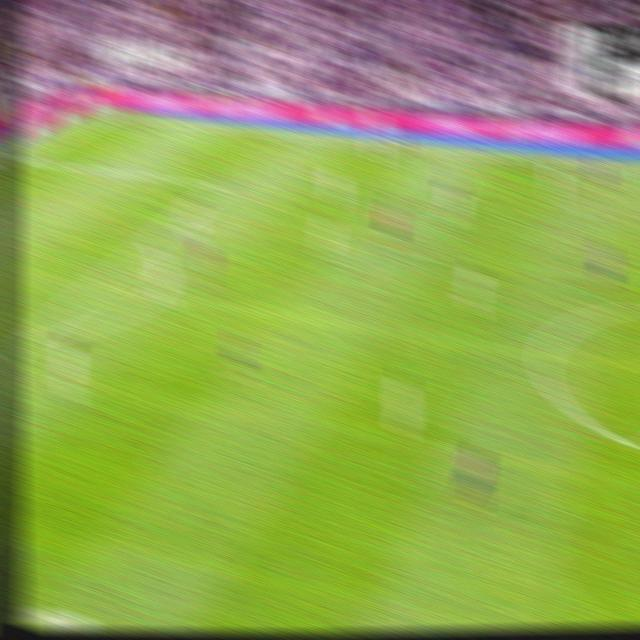bigarea_top_inner: (212, 177, 229, 194)
bigarea_top_outter: (11, 148, 31, 167)
bottom_arc_area_intersection: (18, 324, 41, 350)
corner: (96, 107, 114, 120)
top_arc_area_intersection: (139, 235, 157, 252)
